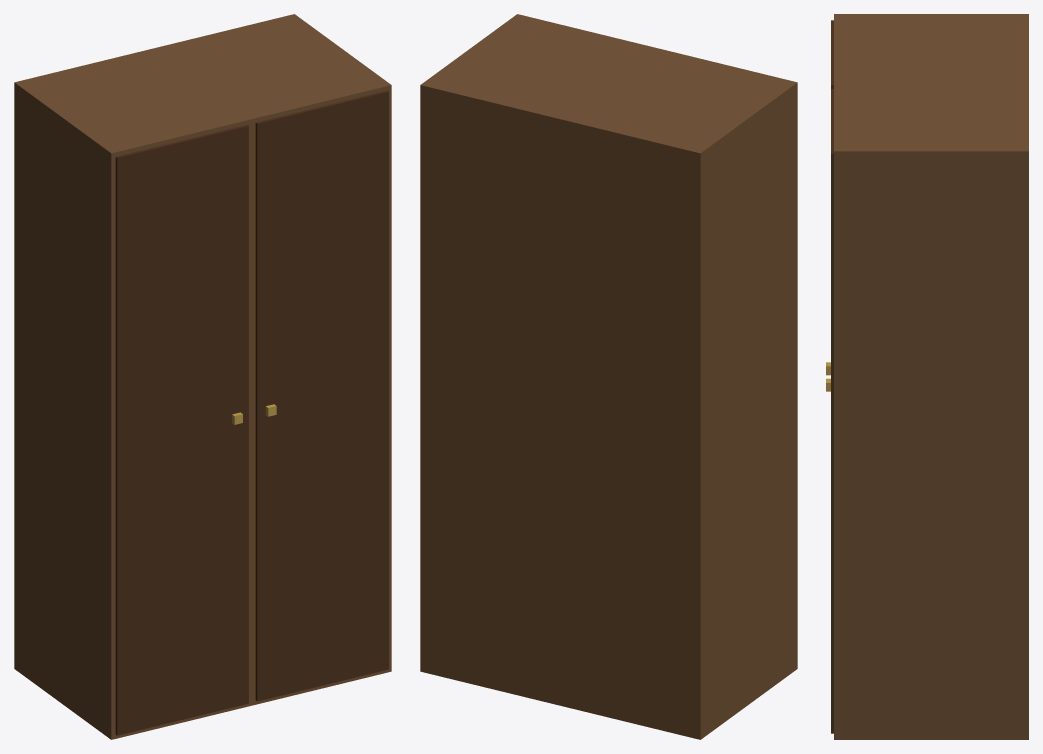
Rendered from closet.glb.
3 views of the same model, side by side, from view 1: azimuth 30°, elevation 25°; view 2: azimuth 150°, elevation 25°; view 3: azimuth 270°, elevation 25° (orthographic).
Parts seen in each view (by area): view 1: closet; view 2: closet; view 3: closet.
Boxes of the visible parts, x1,y1,x2,y2 form: closet: (14, 14, 391, 739); closet: (420, 14, 797, 739); closet: (826, 14, 1028, 739).
Size of the model in its own units: 1 by 2 by 0.625.
